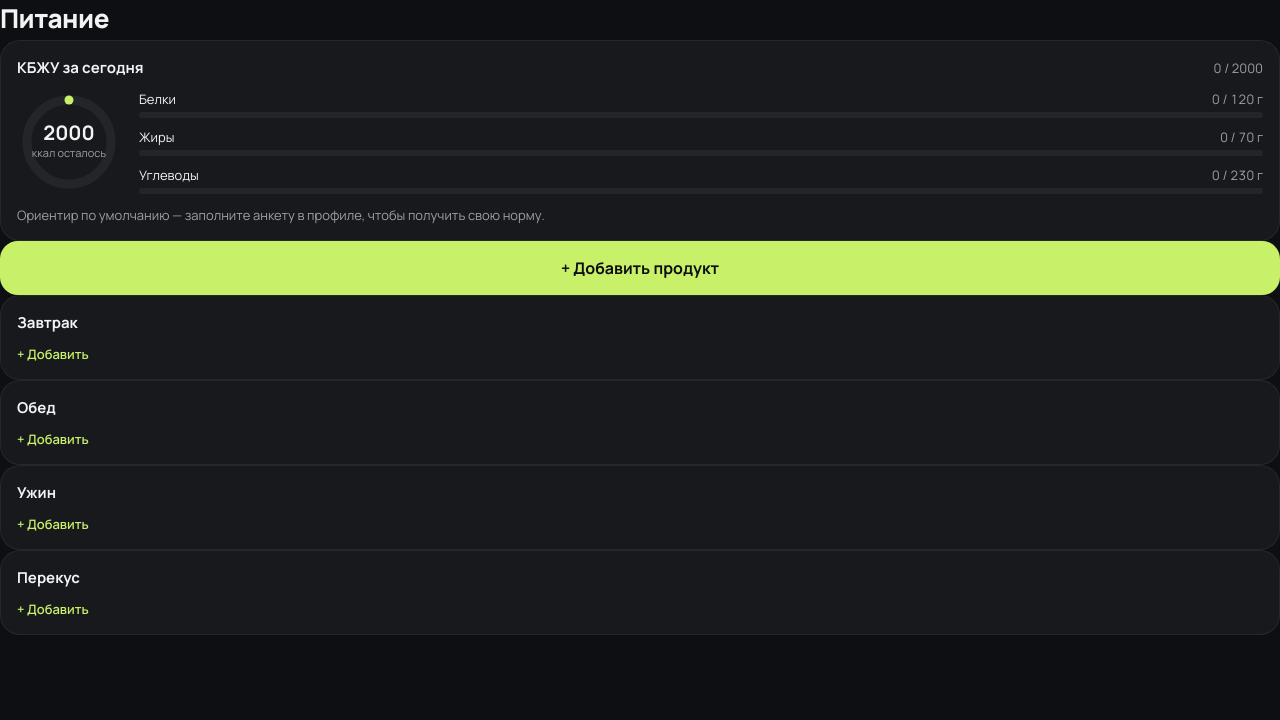
Test case: food: search a product and add grams to a meal
The width and height of the screenshot is (1280, 720).
Step 1. Click the button "+ Добавить" below "Ужин" → (53, 524), box x1=17 y1=515 x2=89 y2=533
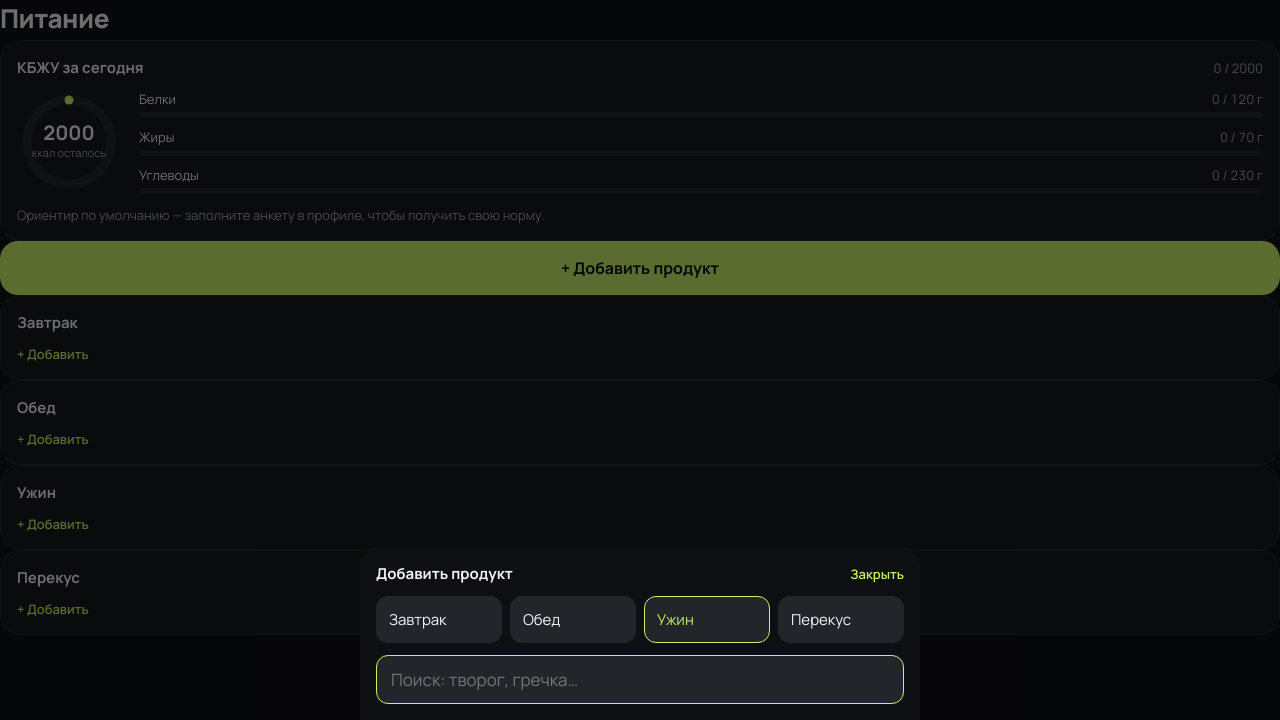
Step 2. Type "тв" into the field with placeholder "Поиск: творог, гречка…" → (640, 680), box x1=376 y1=655 x2=904 y2=704
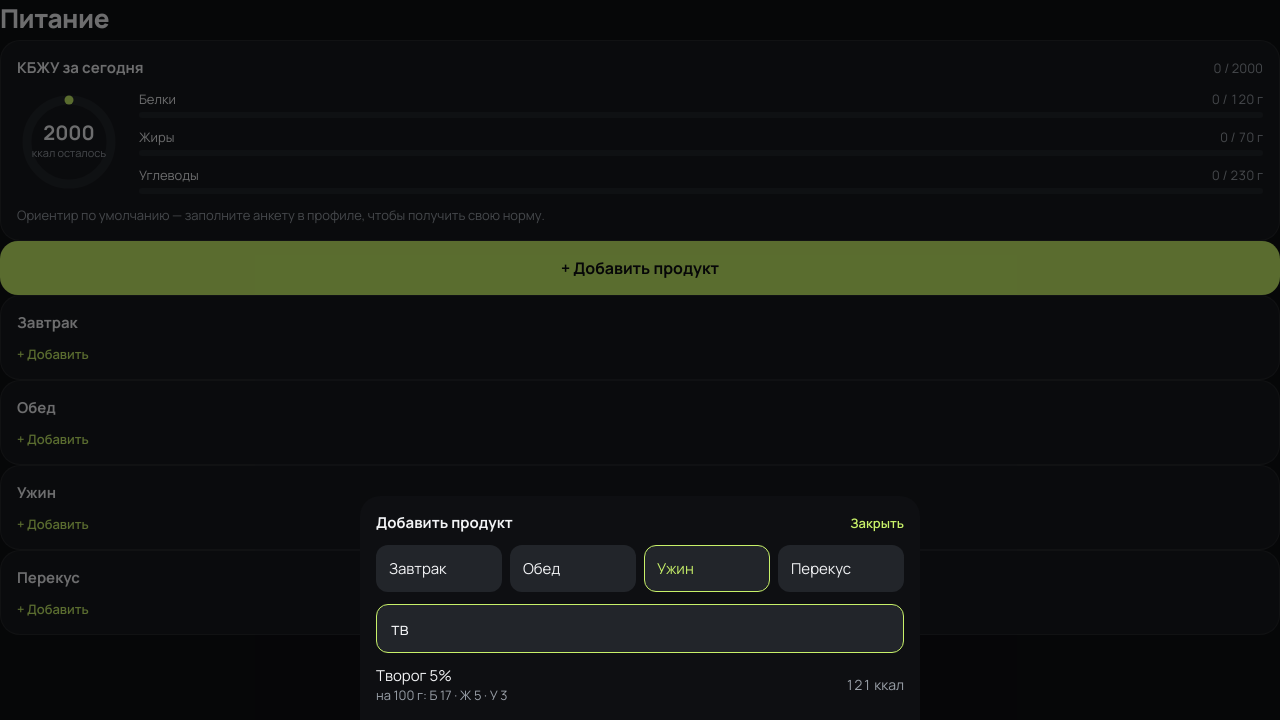
Step 3. Click the button "Творог 5% на 100 г: Б 17 · Ж 5 · У 3 121 ккал" → (414, 676), box x1=376 y1=665 x2=904 y2=704
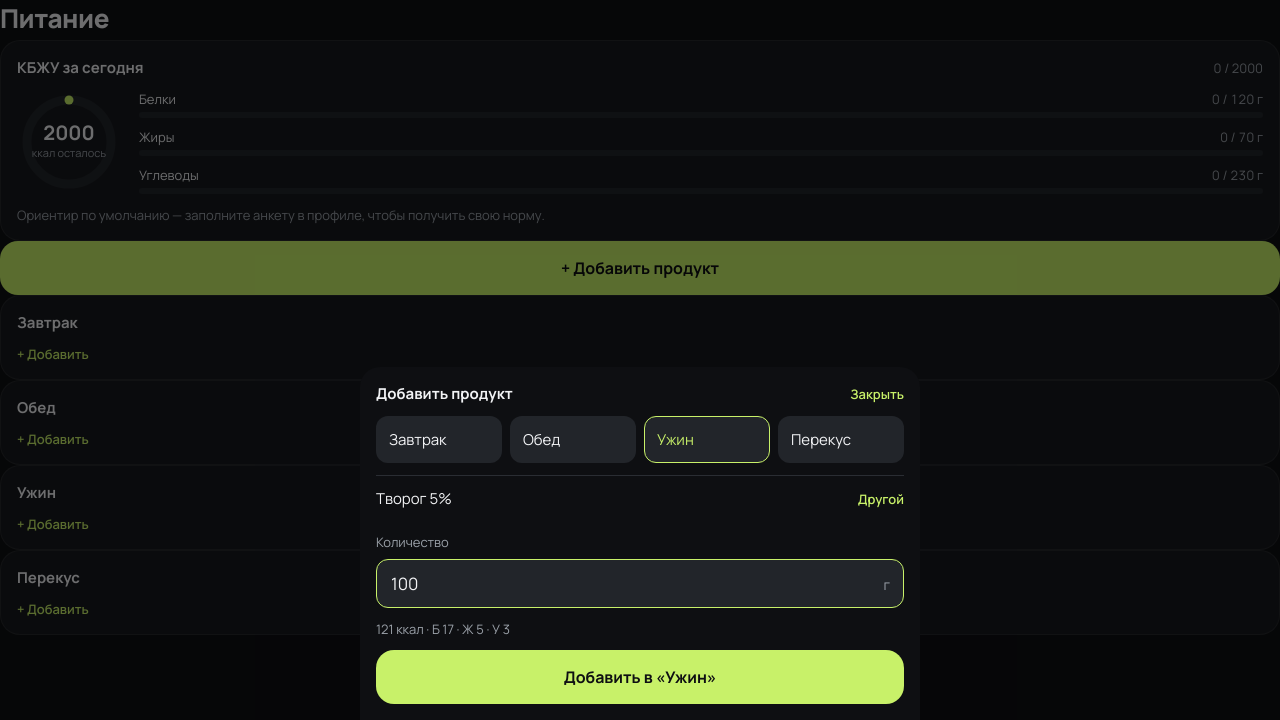
Step 4. Replace the text in the field showing "100" with "200" → (640, 584), box x1=376 y1=559 x2=904 y2=608
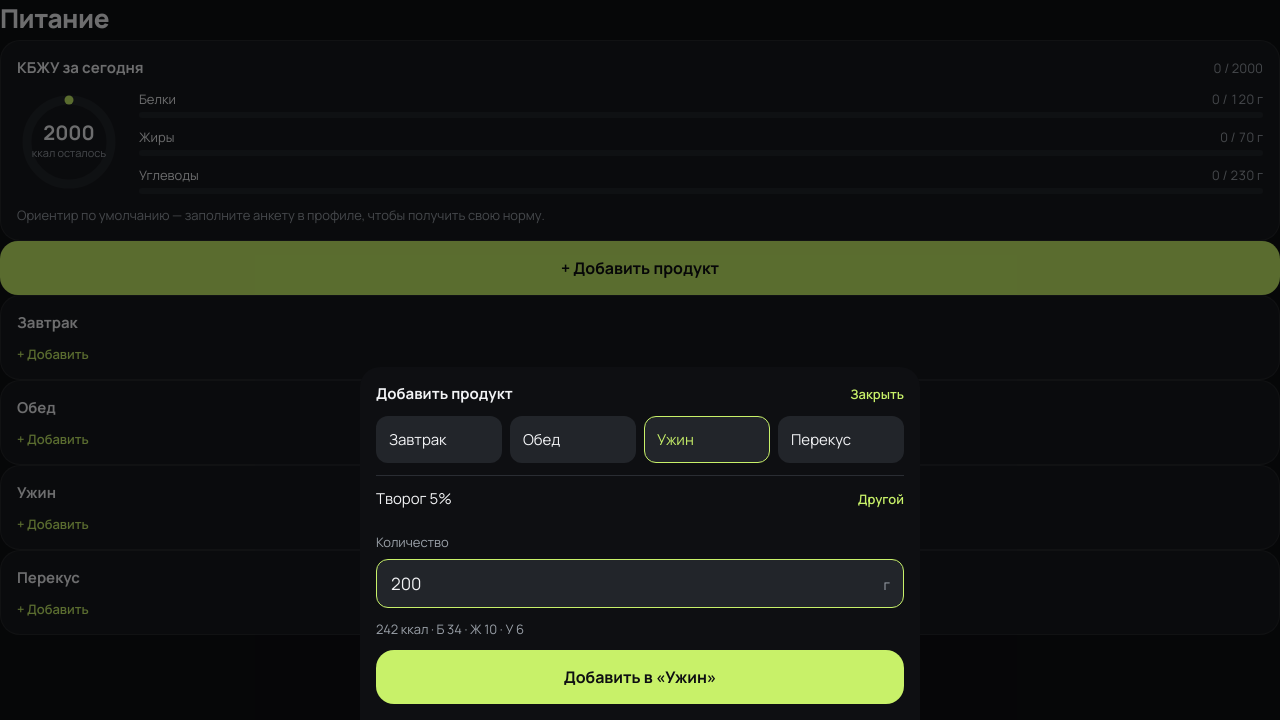
Check: the text "242 ккал · Б 34 · Ж 10 · У 6" is shown, box x1=376 y1=620 x2=524 y2=638
Step 5. Click the button "Добавить в «Ужин»" → (640, 677), box x1=376 y1=650 x2=904 y2=704
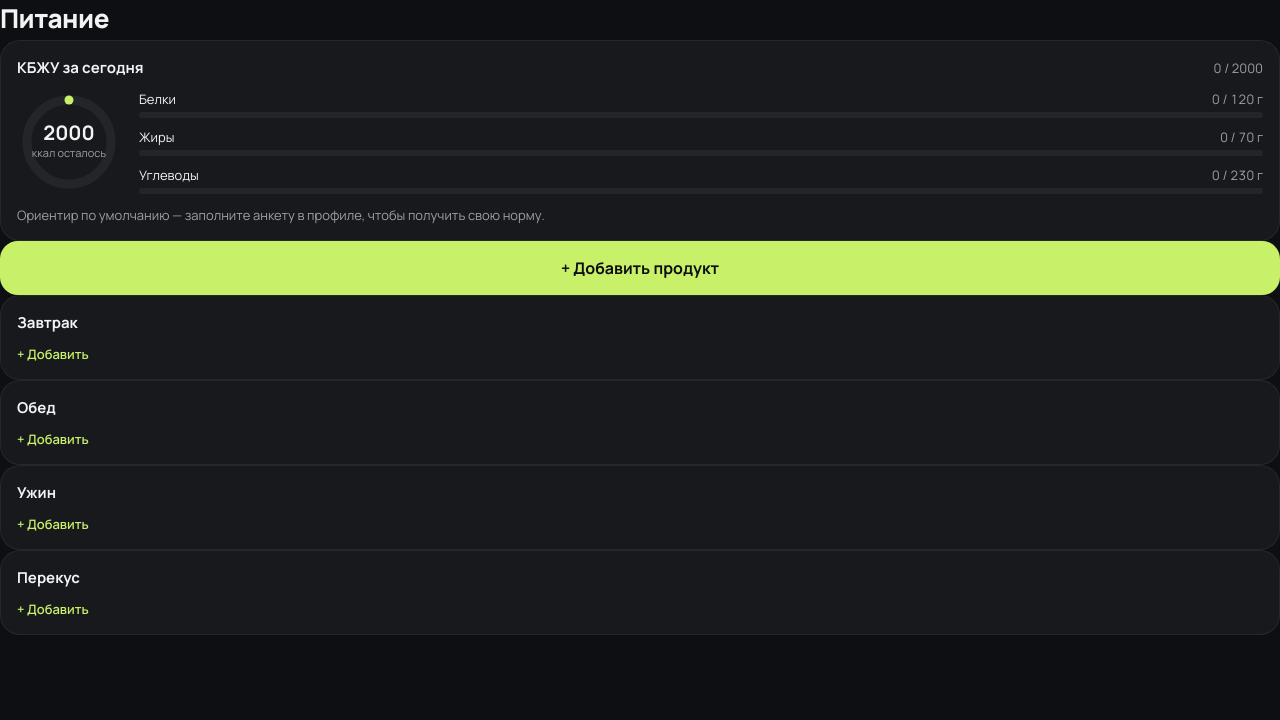
Check: the dialog is gone
